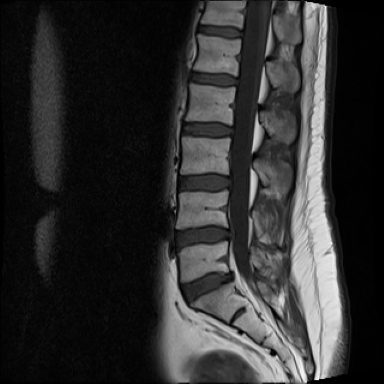Lumbar Disc Bulge (LDB): (169, 258, 240, 311), (165, 215, 243, 257)
Normal IVD: (171, 167, 233, 195), (176, 114, 235, 143), (185, 67, 240, 91), (192, 21, 243, 40)
Spinal Stenosis (SS): (214, 215, 241, 249)
